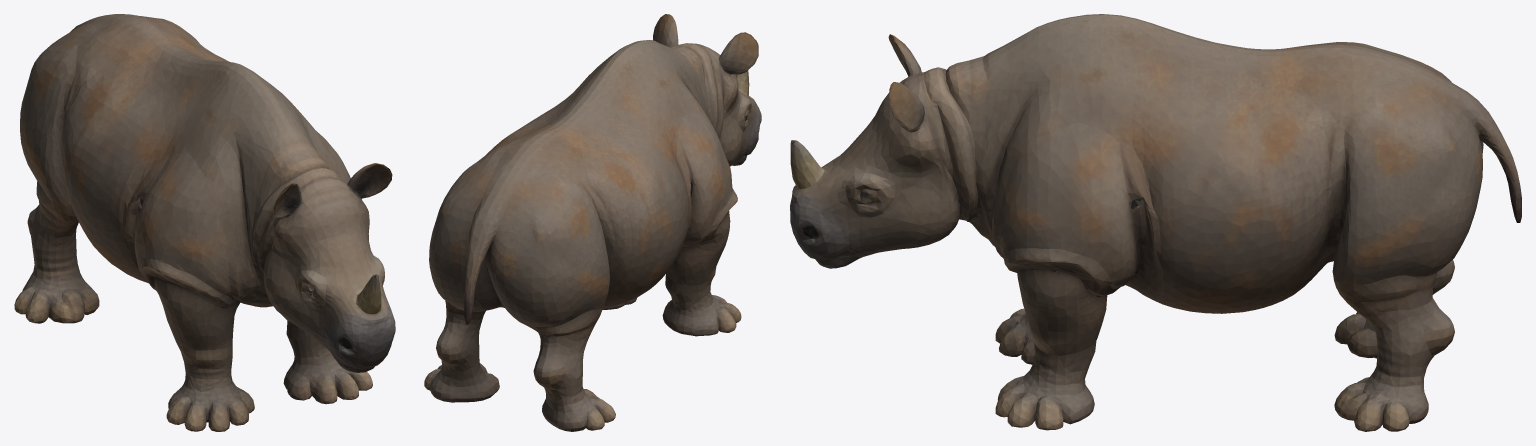
3 views of the same model, side by side, from view 1: azimuth 30°, elevation 25°; view 2: azimuth 150°, elevation 25°; view 3: azimuth 270°, elevation 25° (orthographic). The views are drawn at different scales.
Parts seen in each view (by area): view 1: world; view 2: world; view 3: world.
Boxes of the visible parts, <box> form: world: <box>14,14,395,431</box>; world: <box>424,14,761,431</box>; world: <box>790,14,1521,431</box>.
Size of the model in its own units: 0.3834 by 0.5486 by 1.
1 material, 1 textured.
